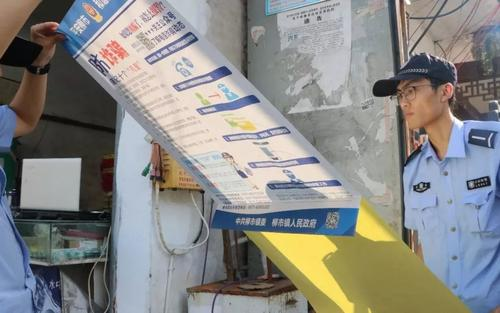bill: (52, 1, 359, 236)
